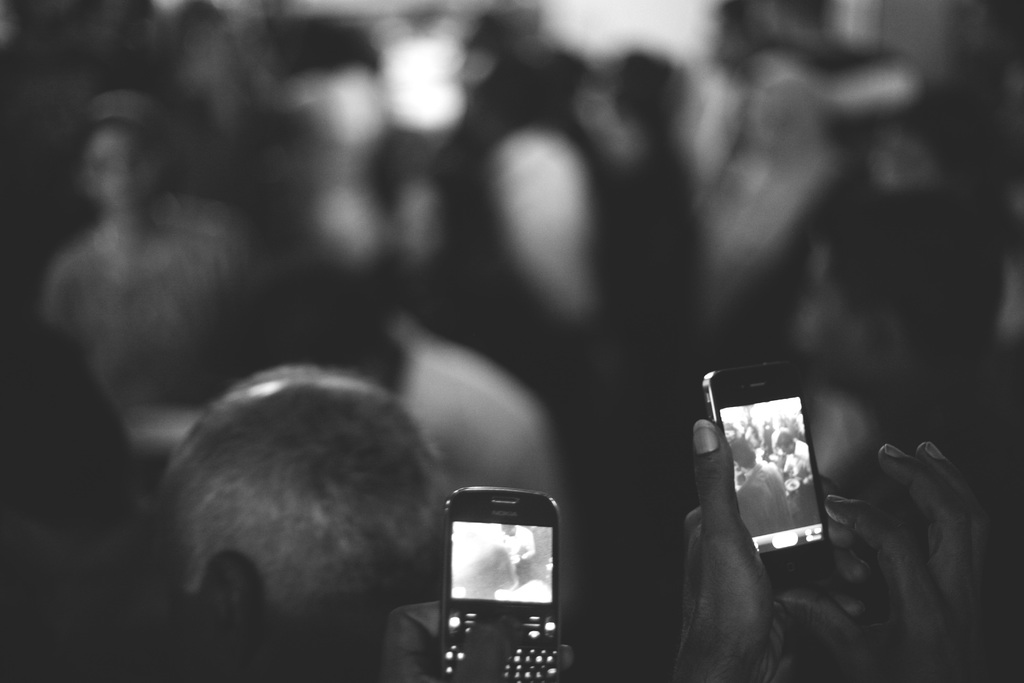Mobile-phone: (702, 360, 832, 552), (438, 488, 561, 682)
